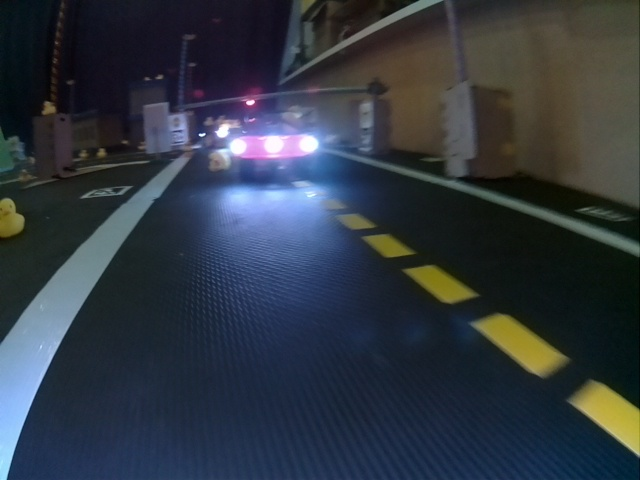Duckie: (1, 199, 24, 237), (209, 151, 230, 170), (40, 100, 55, 114), (96, 147, 104, 157)
Duckiebot: (231, 115, 318, 177)
QR code: (82, 187, 130, 197)
